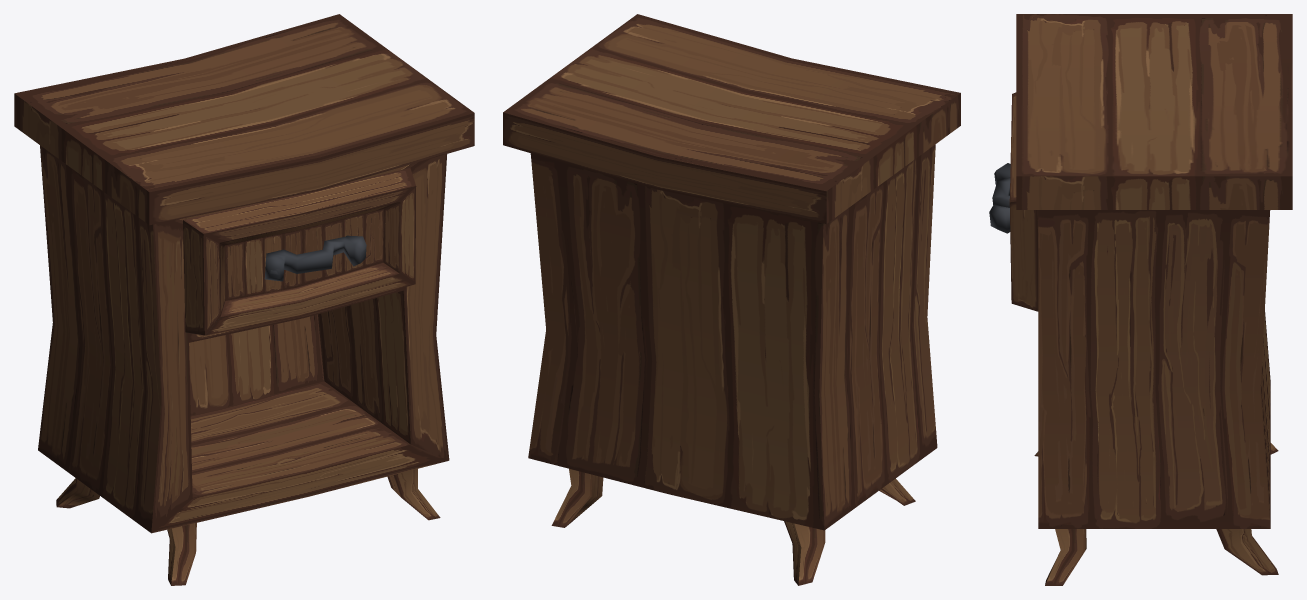
The model's file is SM_PROP_nightstand_interior_03.fbx.
The picture shows the model from 3 angles, left to right: view 1: azimuth 30°, elevation 25°; view 2: azimuth 150°, elevation 25°; view 3: azimuth 270°, elevation 25°; orthographic projection. The views are drawn at different scales.
Parts seen in each view (by area): view 1: SM_PROP_nightstand_interior_03, SM_PROP_nightstand_drawer_interior_03; view 2: SM_PROP_nightstand_interior_03; view 3: SM_PROP_nightstand_interior_03, SM_PROP_nightstand_drawer_interior_03.
Part boxes in pixels (x1,y1,x2,y2): SM_PROP_nightstand_interior_03: (14, 14, 474, 585); SM_PROP_nightstand_drawer_interior_03: (183, 168, 416, 335); SM_PROP_nightstand_interior_03: (503, 14, 960, 585); SM_PROP_nightstand_interior_03: (1016, 14, 1292, 585); SM_PROP_nightstand_drawer_interior_03: (989, 92, 1038, 311).
Bounding box in the file's own units: 69.17 × 83.41 × 54.67.
